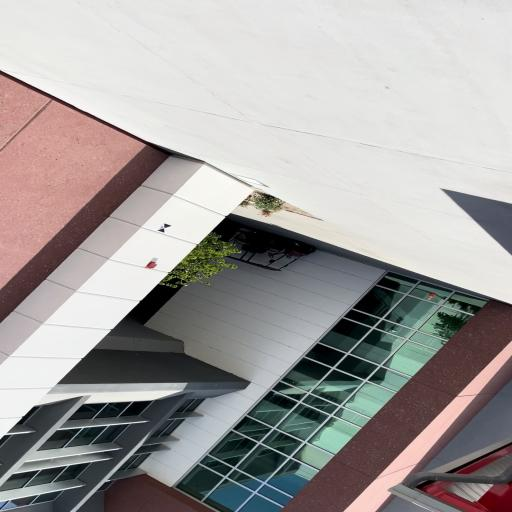target6: (157, 223, 171, 232)
